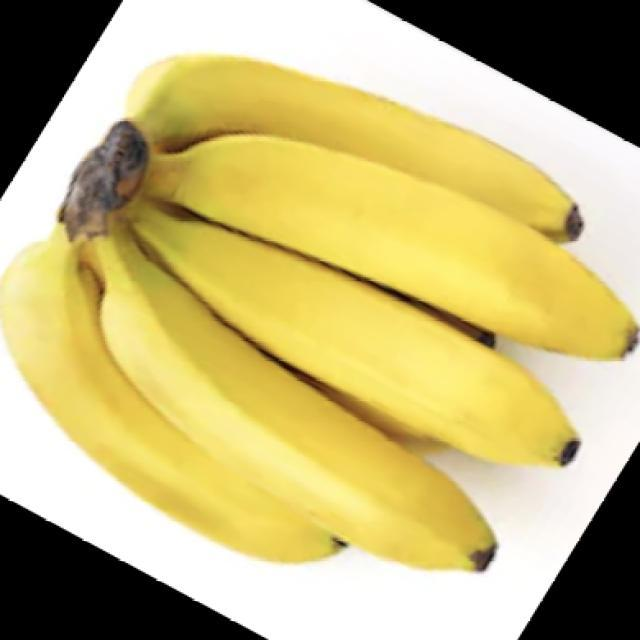Banana: (0, 52, 638, 573)
